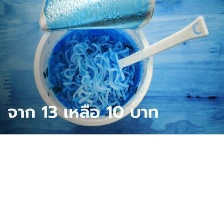paper_cup: (29, 0, 158, 131)
